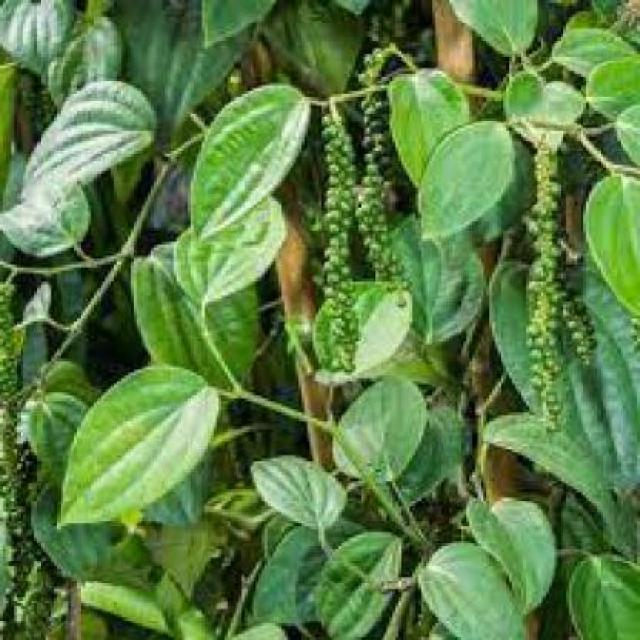UNRIPE: (512, 131, 583, 429), (359, 37, 410, 312), (319, 105, 362, 379), (3, 274, 31, 632)
